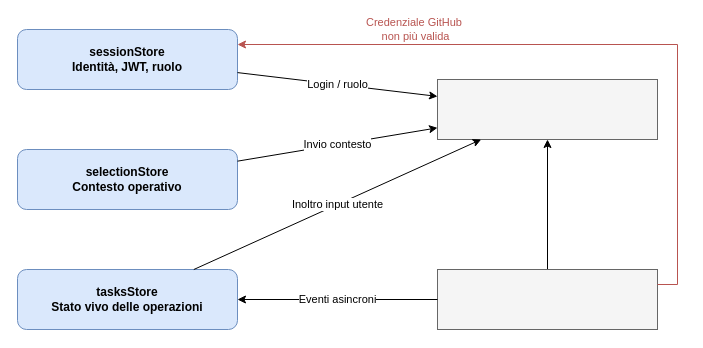
This 703x348 diagram has some shape labels left out. The centre of each missing label's shape, as x and y in pixels:
"API REST" goes at point (547, 109).
"WebSocket" goes at point (547, 299).
